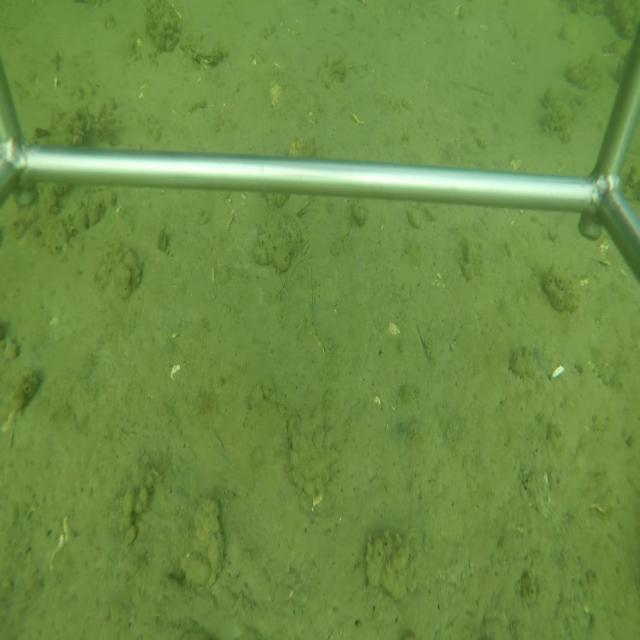Oyster-Closed: (183, 34, 226, 68)
Oyster-Indeterminate: (178, 498, 228, 590)
